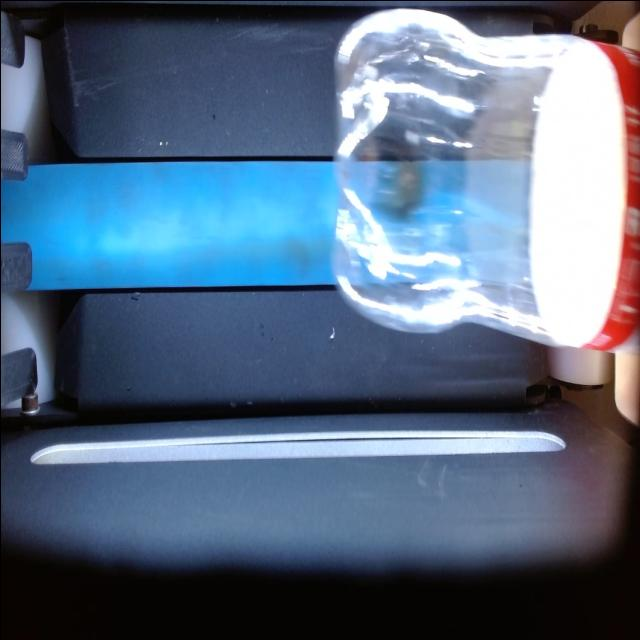bottom: (318, 0, 413, 364)
